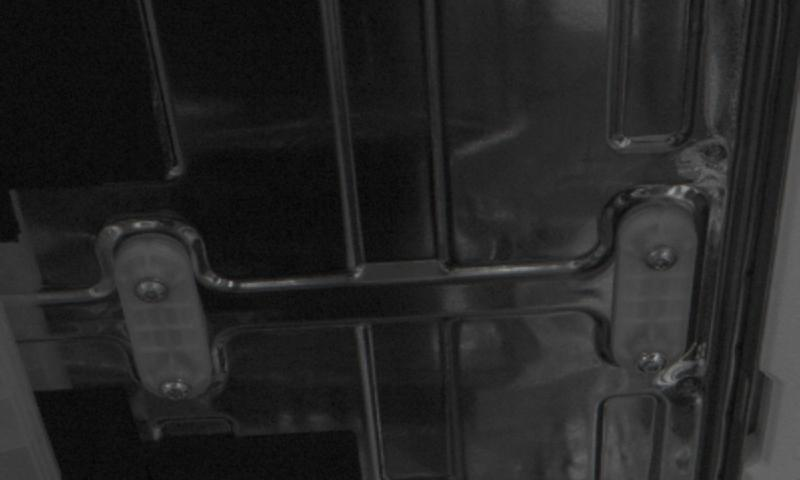vida-ok: (132, 272, 178, 316), (638, 234, 685, 277), (633, 341, 679, 380), (154, 367, 199, 406)
